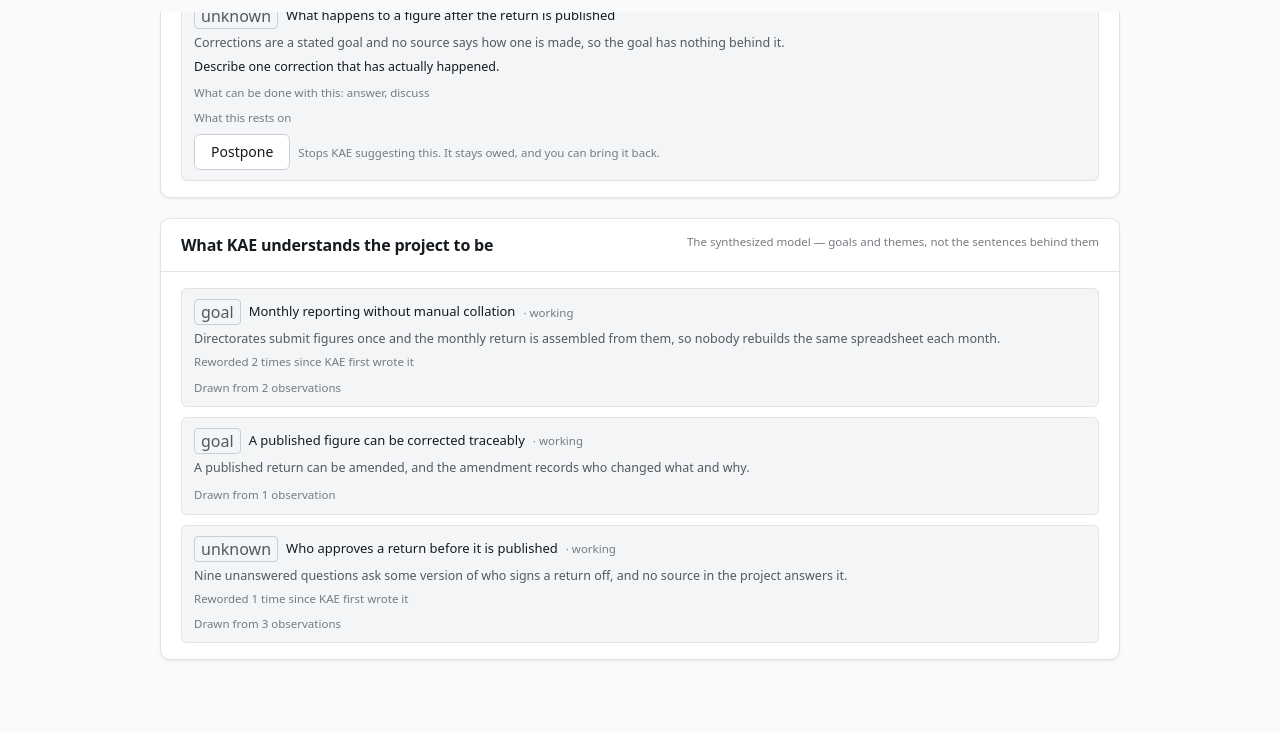
Test: the model says how much of the project stands behind each object › says the count once, on the line somebody clicked
(page scrolled)
What coordinates should you click on to do the following:
click the heading "Drawn from 2 observations"
I would click on:
 (268, 387)
Its box is [194,380,341,395].
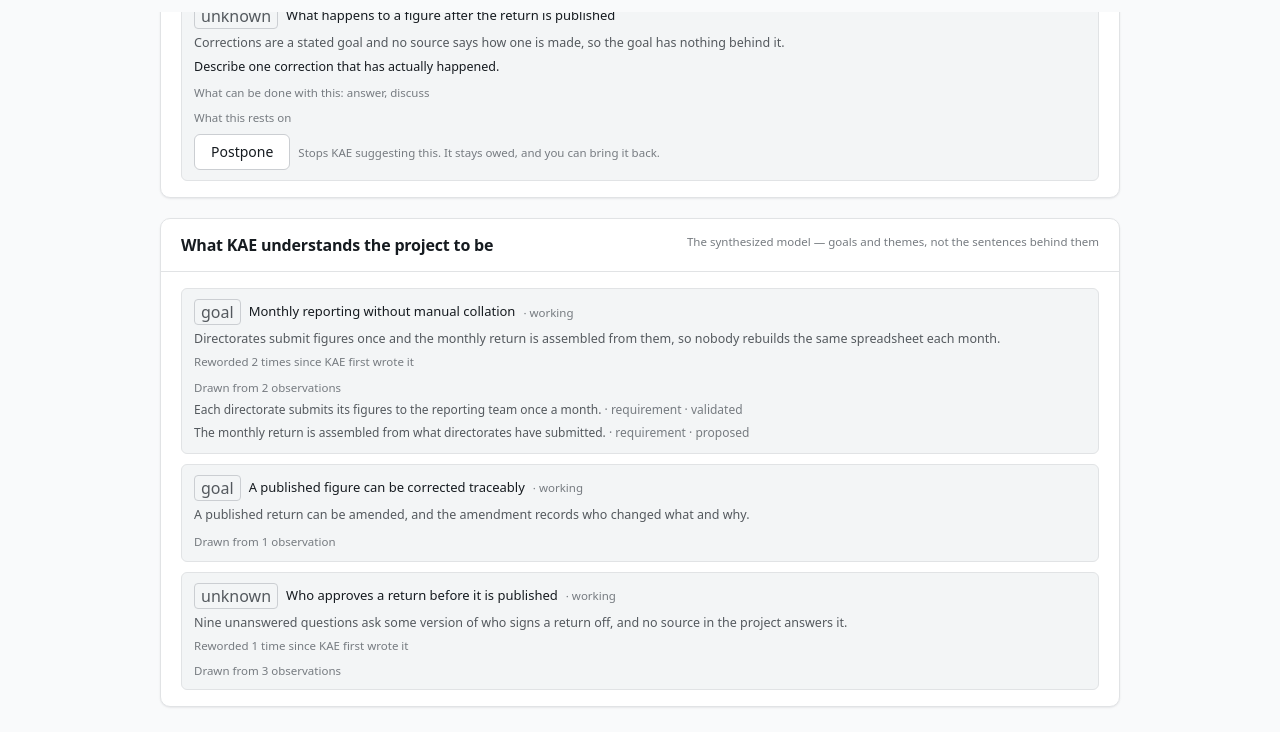
Result: the 2nd list item is shown at [194,401,601,418]
